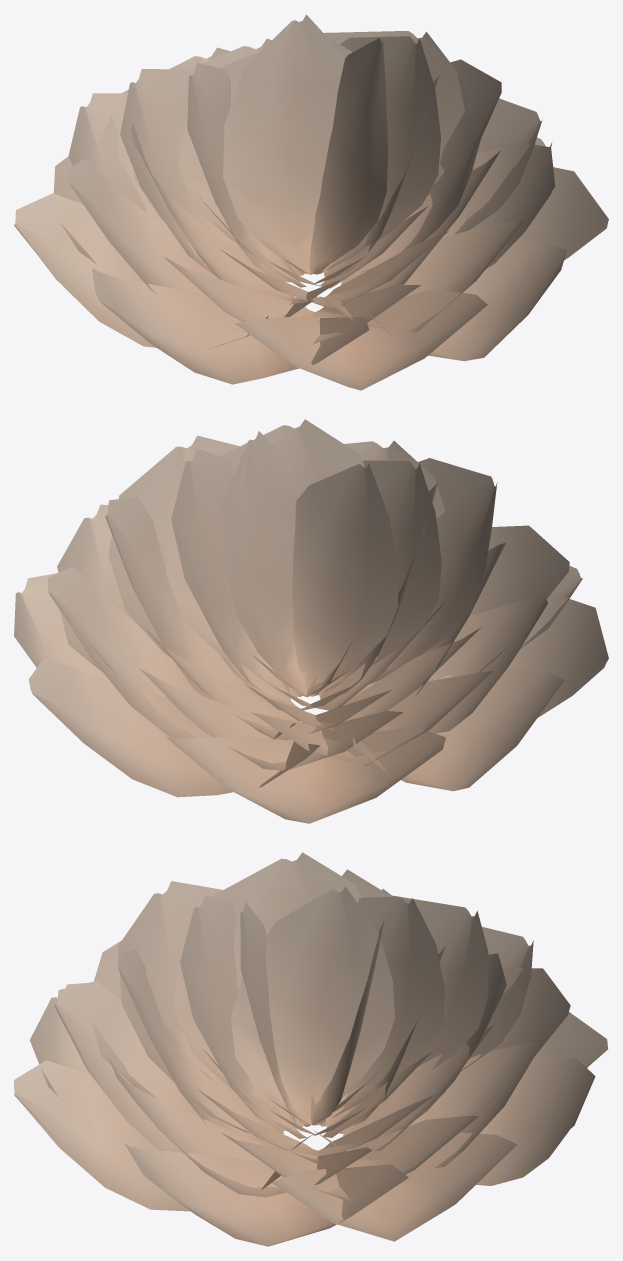
File: creamRose.glb
The picture shows the model from 3 angles, top to bottom: view 1: azimuth 30°, elevation 25°; view 2: azimuth 150°, elevation 25°; view 3: azimuth 270°, elevation 25°; orthographic projection. The views are drawn at different scales.
Visible parts, largest first — view 1: creamRose.001; view 2: creamRose.001; view 3: creamRose.001.
Boxes of the visible parts, x1,y1,x2,y2 form: creamRose.001: (14,14,608,390); creamRose.001: (14,419,608,823); creamRose.001: (14,852,607,1246).
Bounding box in the file's own units: 0.0722 × 0.0387 × 0.0725.
